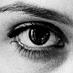eye: (29, 27, 51, 45)
